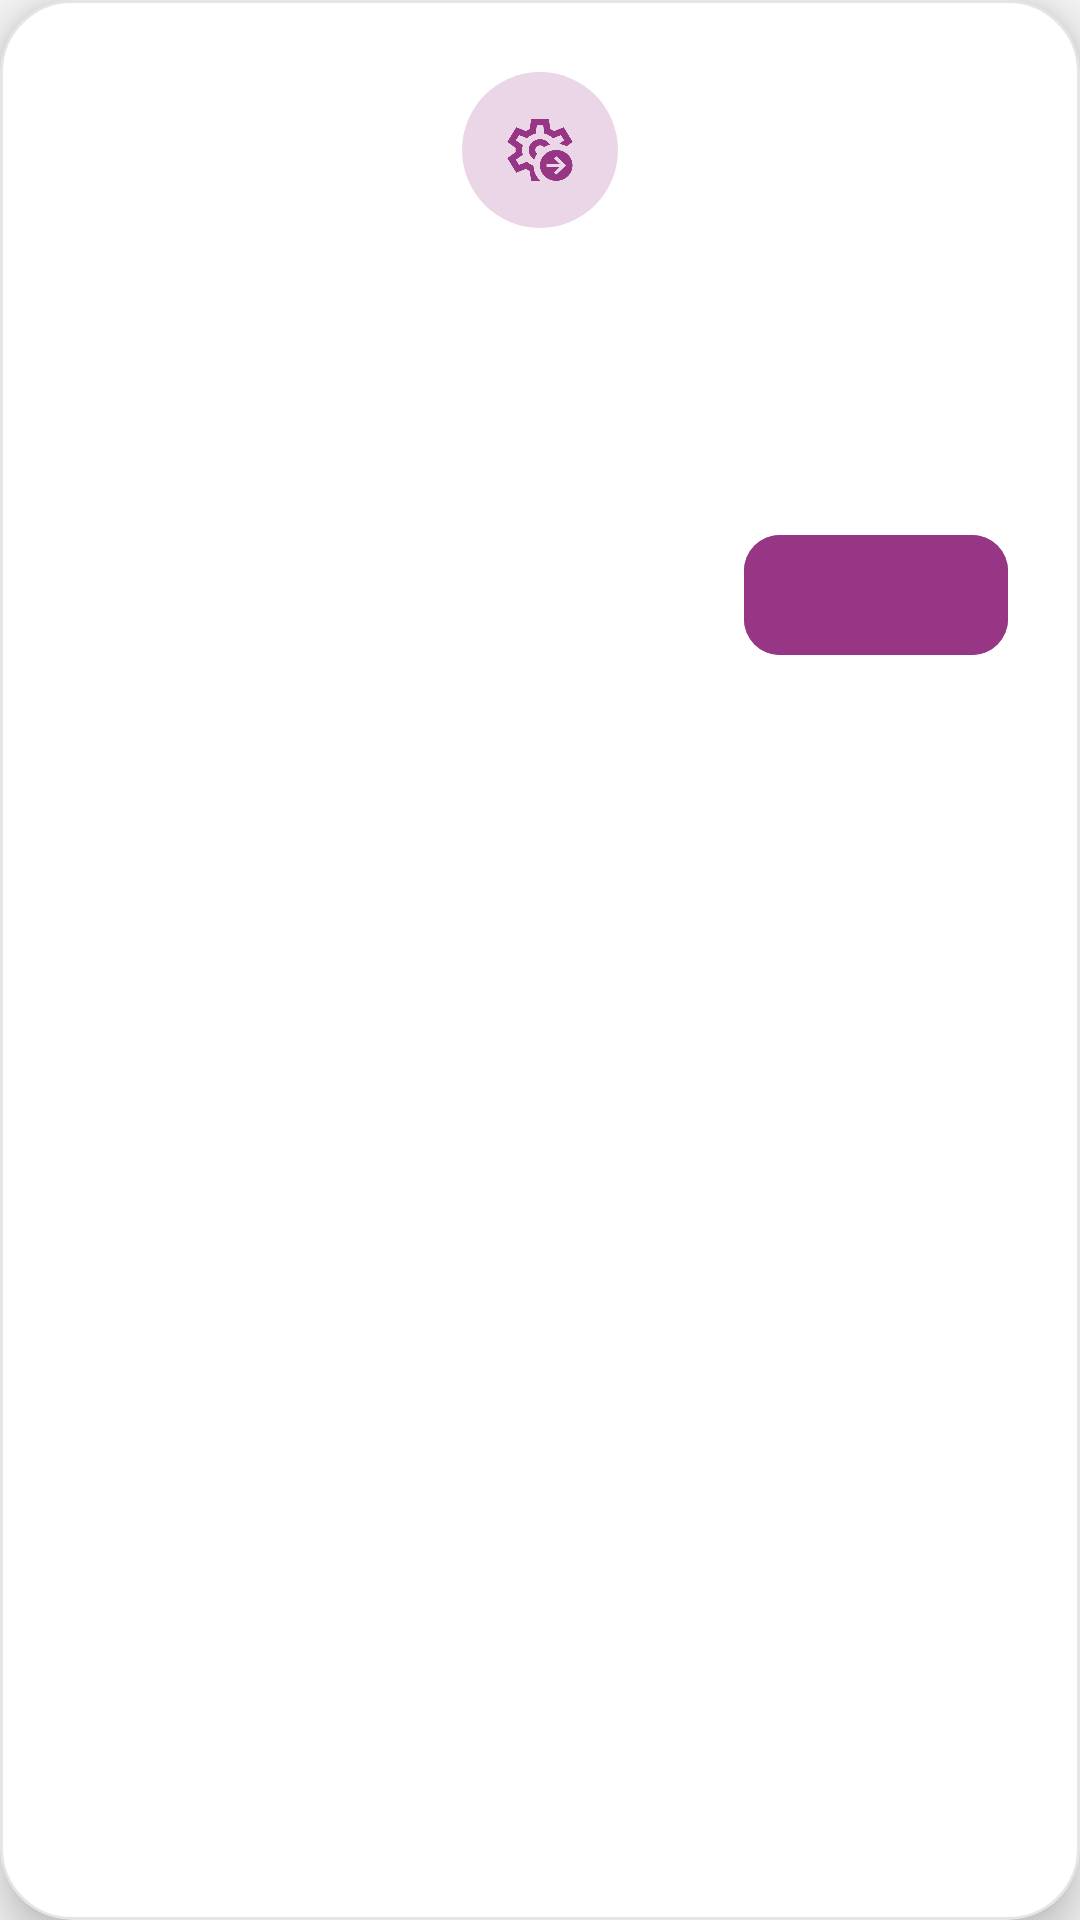

Named icons in this screenshot (1080×1920) and their centers, (x,y):
Ajustes: (540,150)
